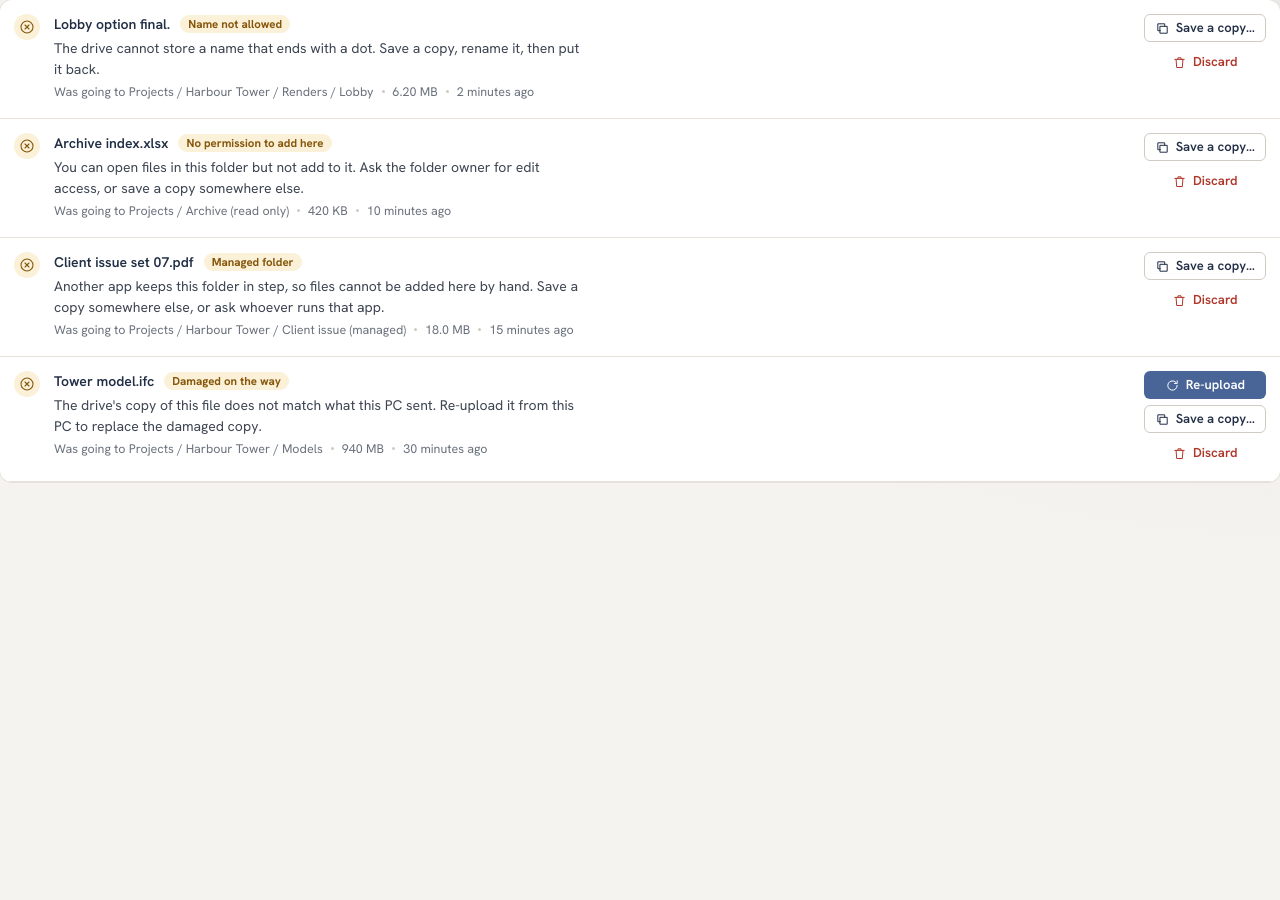
Test: HeldList › asks before discarding, then removes the item
This screenshot has width=1280, height=900.
Later steps or results of the test are not shown.
Step 1. Click the 1st button "Discard" → coordinates (1205, 62), box [1144,48,1266,76]
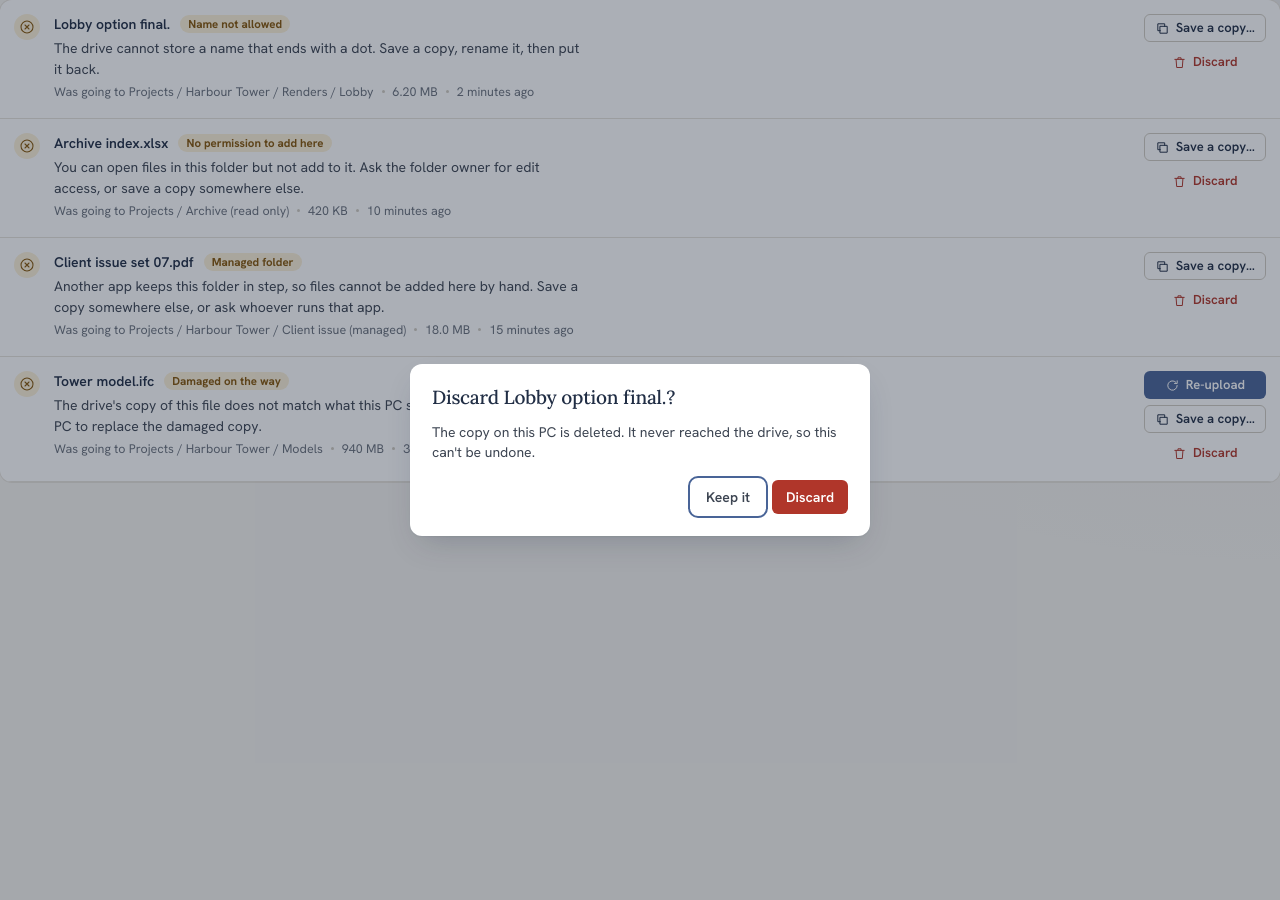
"Keep it" closes without discarding.
Step 2. Click the button "Keep it" → coordinates (728, 497), box [692,480,764,514]
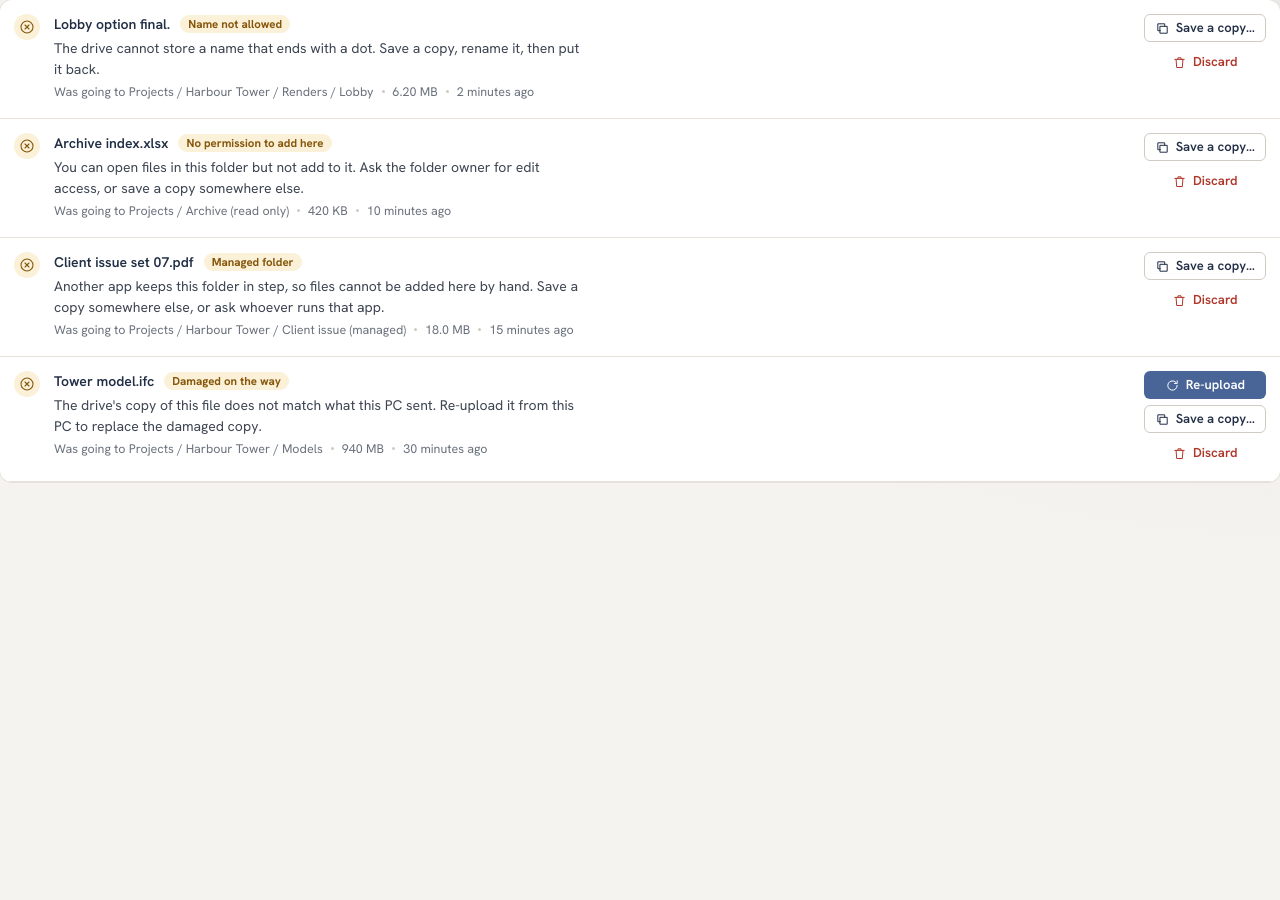
Expected: the number of list items is 4, [0,0,1279,119]; [0,119,1279,238]; [0,238,1279,357]; [0,357,1279,482]
Expected: the dialog is gone
